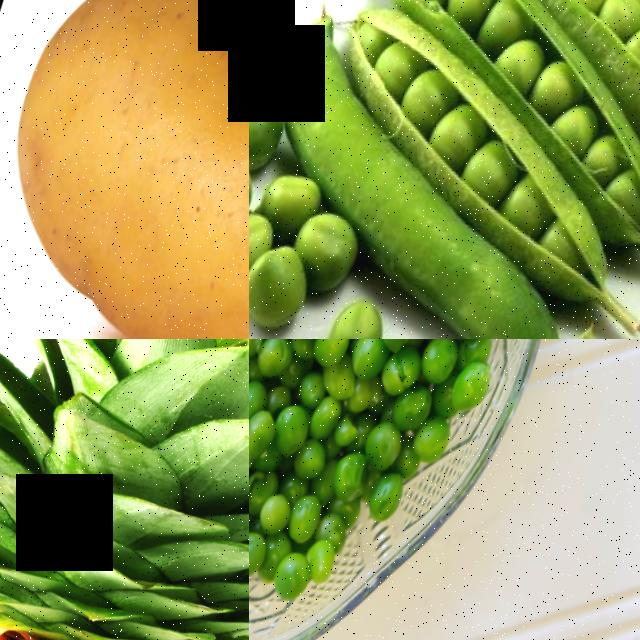peas: (249, 339, 555, 633), (321, 0, 640, 260), (249, 93, 373, 339)
pineapple: (0, 390, 249, 640)
potato: (0, 0, 249, 339)
